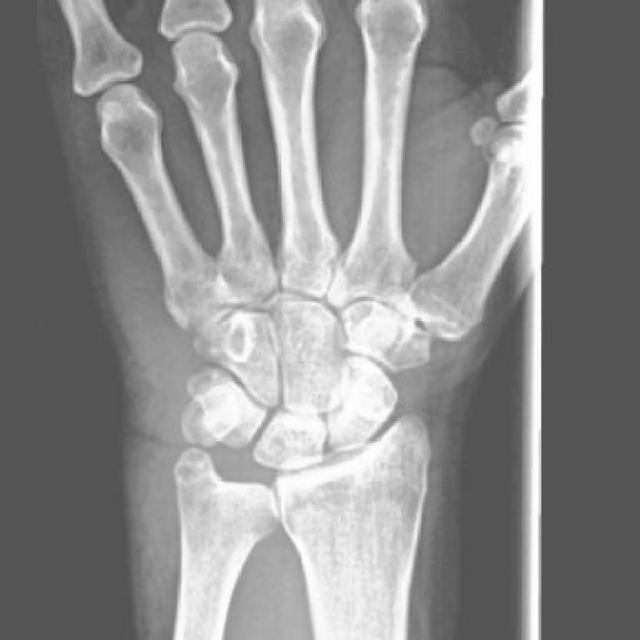Fracture: (171, 368, 242, 450)
